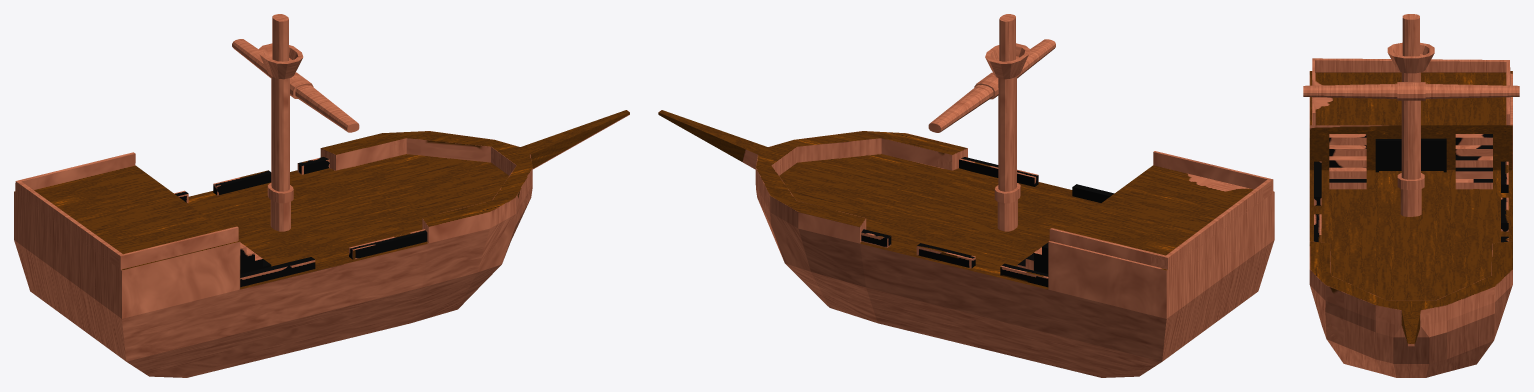
File: navio_pequeno.glb
The picture shows the model from 3 angles, left to right: view 1: azimuth 30°, elevation 25°; view 2: azimuth 150°, elevation 25°; view 3: azimuth 270°, elevation 25°; orthographic projection. The views are drawn at different scales.
Parts seen in each view (by area): view 1: Ship, Mastro, Railing, RightStair; view 2: Ship, Mastro, Railing, LeftStair; view 3: Ship, Mastro, RightStair, LeftStair, Door, Railing.
Part boxes in pixels (x1=…): Ship: x1=14, y1=110, x2=629, y2=377; Mastro: x1=232, y1=14, x2=359, y2=231; Railing: x1=174, y1=157, x2=427, y2=286; RightStair: x1=240, y1=242, x2=271, y2=273; Ship: x1=658, y1=110, x2=1274, y2=377; Mastro: x1=928, y1=14, x2=1055, y2=231; Railing: x1=861, y1=157, x2=1114, y2=287; LeftStair: x1=1017, y1=242, x2=1048, y2=273; Ship: x1=1309, y1=58, x2=1512, y2=377; Mastro: x1=1303, y1=14, x2=1519, y2=216; RightStair: x1=1329, y1=134, x2=1366, y2=189; LeftStair: x1=1455, y1=134, x2=1492, y2=189; Door: x1=1375, y1=138, x2=1446, y2=172; Railing: x1=1314, y1=161, x2=1508, y2=242.
Size of the model in its own units: 42.92 by 21.95 by 15.27.
3 materials, 2 textured.
